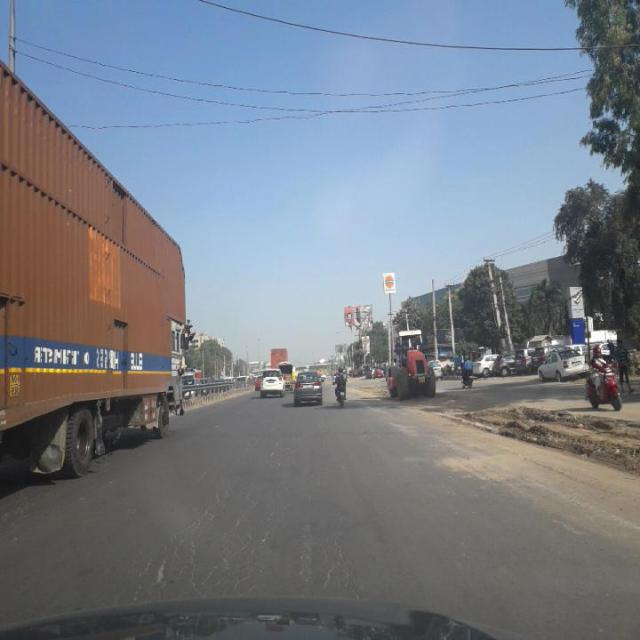crack: (126, 420, 390, 594)
